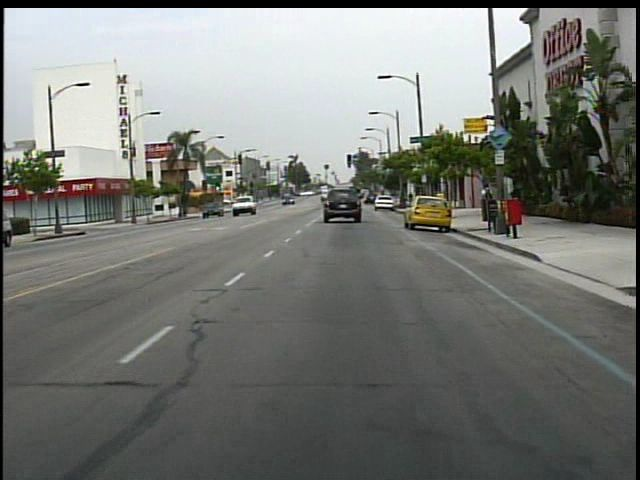person: (475, 181, 497, 220)
